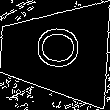O_W: (27, 29, 81, 75)
